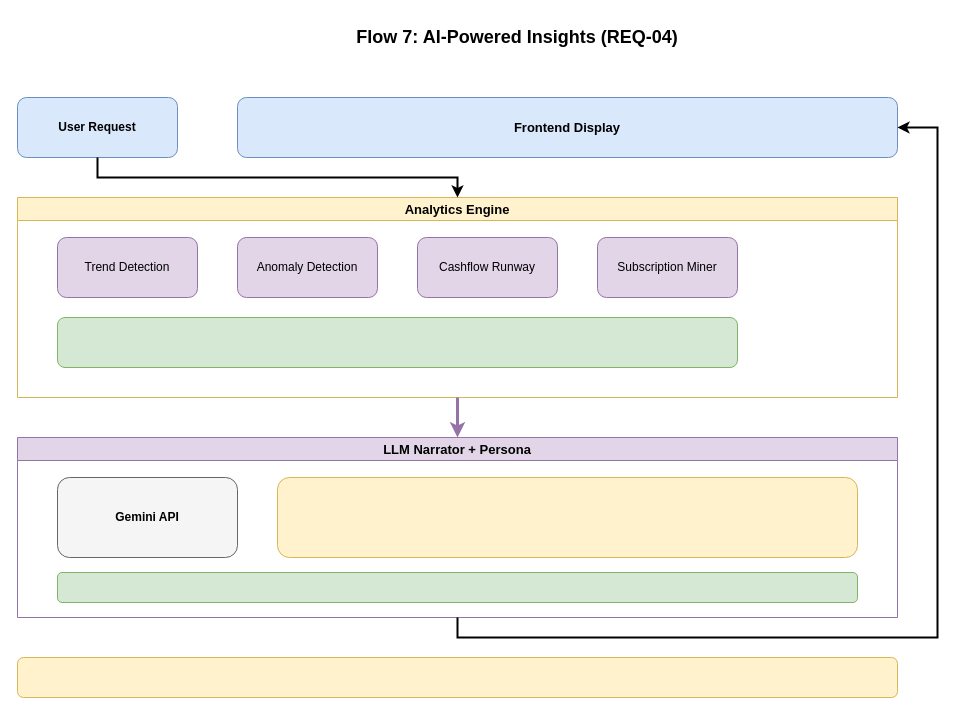
Image size: 964x715. Some labels were removed from this diagram. The shapes that lost their labels are listed below. From the top down, each one's box as (x1, y1, x2, y2) in pixels, then its label:
(56, 316, 738, 368): Facts (JSON)
(276, 476, 858, 558): Persona Outputs
(56, 572, 858, 602): AI Comment
(16, 656, 898, 698): CORE VALUE: Math calculates facts, LLM narrates with persona
